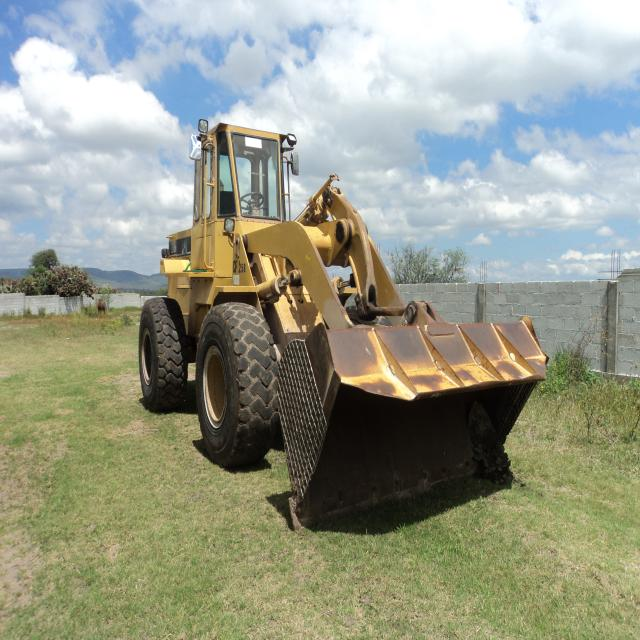buldozerpayloadergrader: (126, 115, 551, 532)
